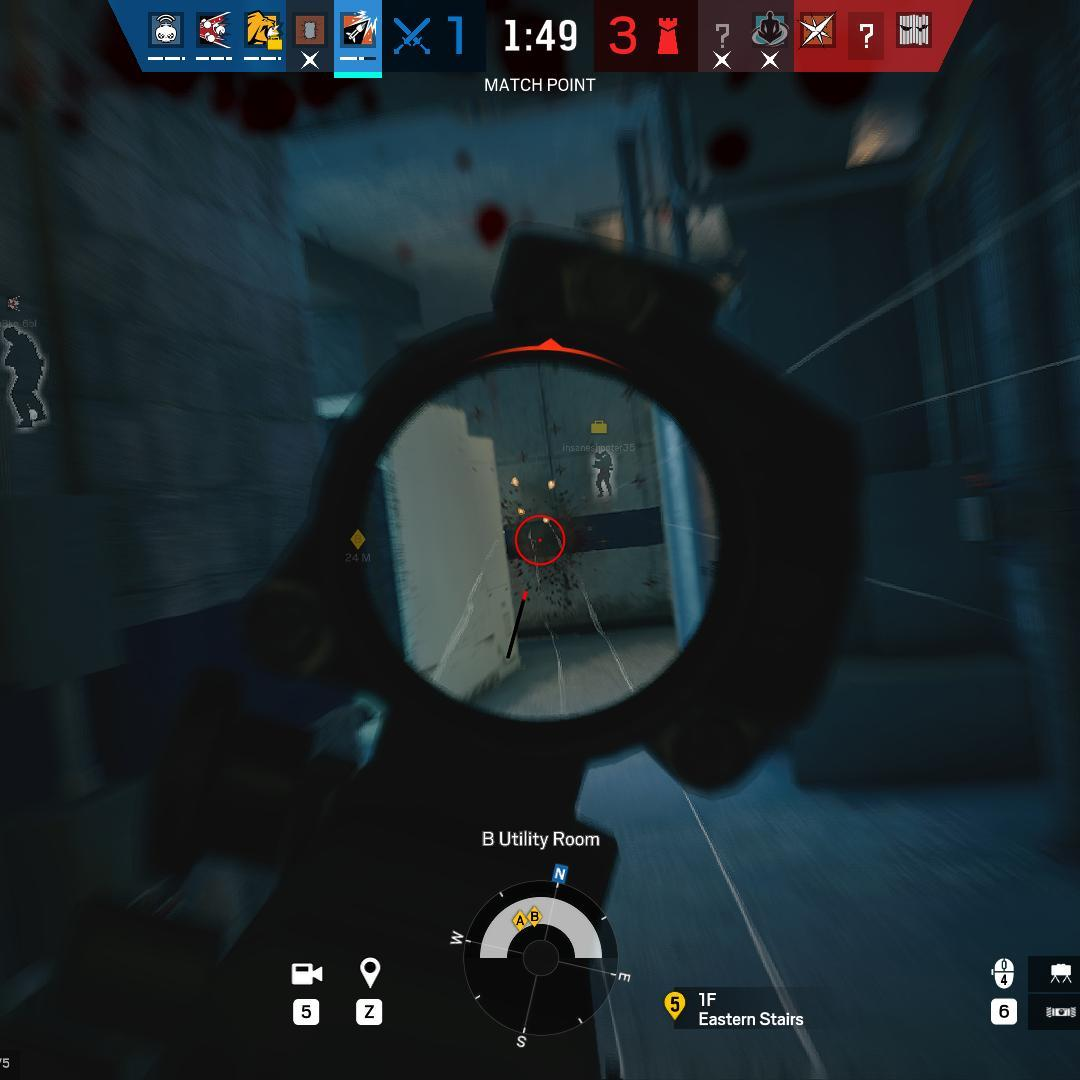Friend_label: (562, 418, 640, 455), (0, 292, 39, 328)
